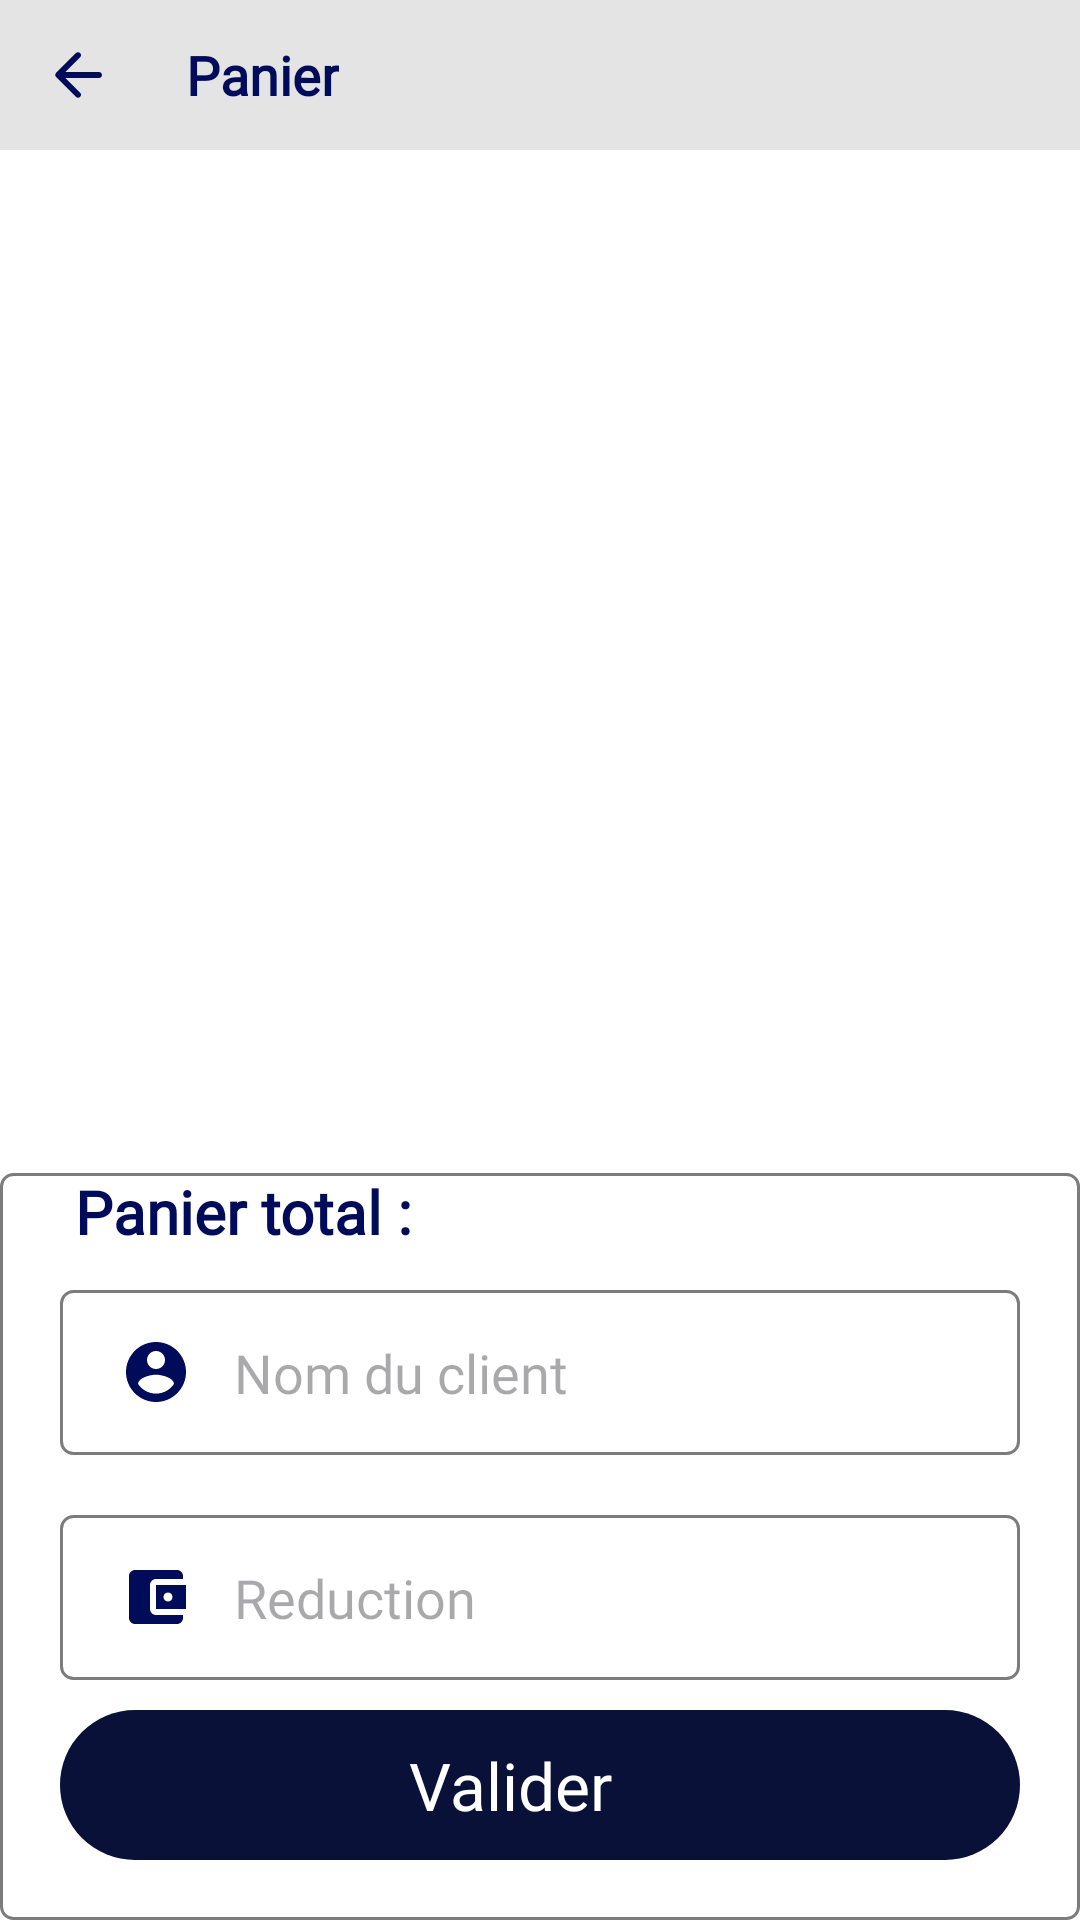

Where icons sit on this 1080×1920 app screen, as (x1, y1, x2, y2):
back: (55, 52, 102, 98)
